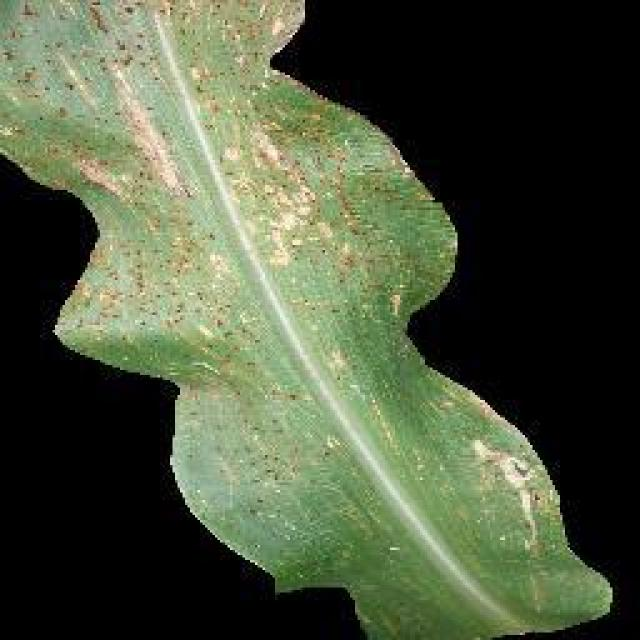Corn Common Rust: (67, 33, 438, 470)
